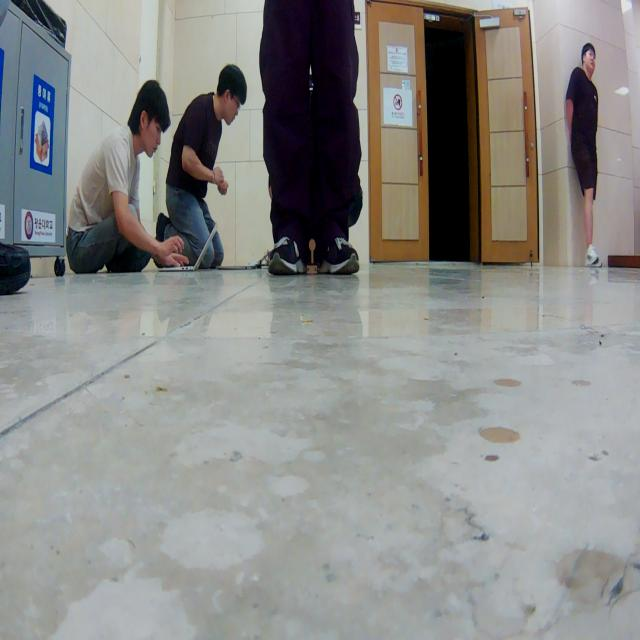target: (306, 238, 318, 274)
